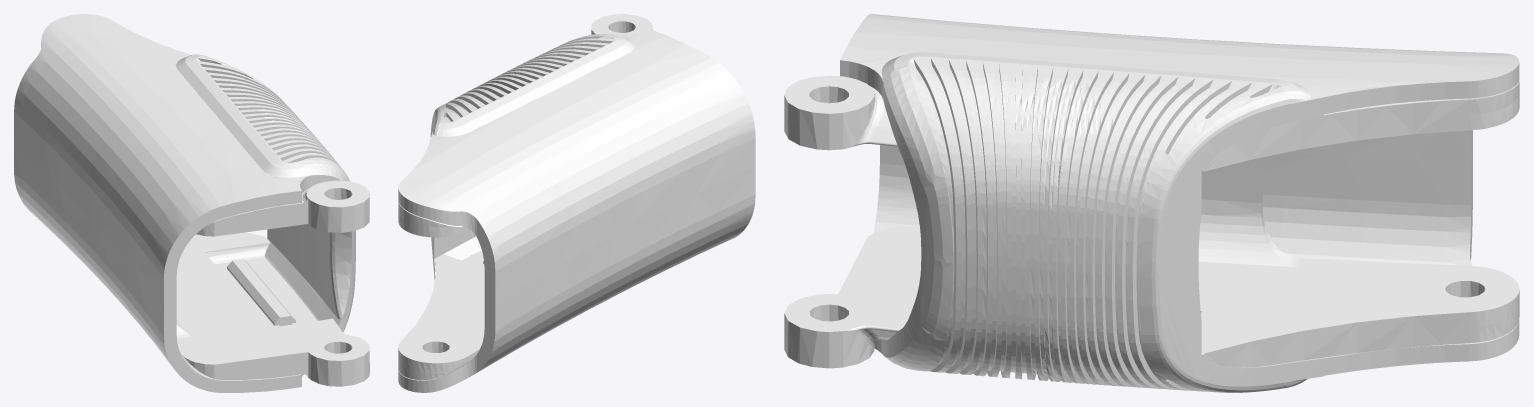
File: rh_index_middle_vis.obj
3 renders of one model, left to right at view 1: azimuth 30°, elevation 25°; view 2: azimuth 150°, elevation 25°; view 3: azimuth 270°, elevation 25°, orthographic. The views are drawn at different scales.
Parts seen in each view (by area): view 1: rh_index_middle; view 2: rh_index_middle; view 3: rh_index_middle.
Boxes of the visible parts, x1,y1,x2,y2 form: rh_index_middle: (14, 14, 369, 392); rh_index_middle: (398, 14, 755, 392); rh_index_middle: (784, 14, 1519, 392).
Bounding box in the file's own units: 0.0193 × 0.0164 × 0.0367.
1 material, 1 textured.
